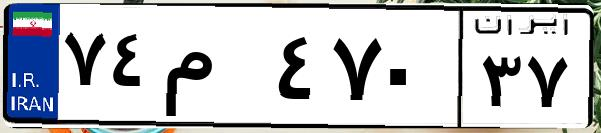0: (385, 28, 445, 110)
3: (475, 38, 525, 113)
4: (270, 28, 330, 110), (110, 28, 158, 98)
7: (330, 28, 385, 110), (57, 26, 110, 100), (525, 38, 570, 115)
م: (158, 20, 270, 120)
